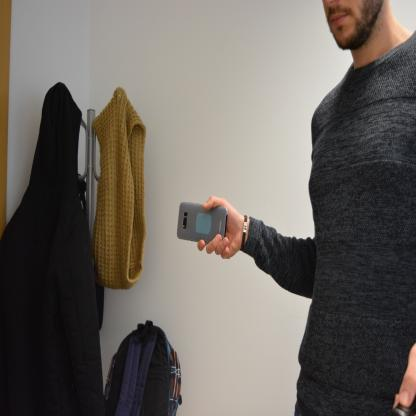smartphone: (176, 201, 228, 245)
